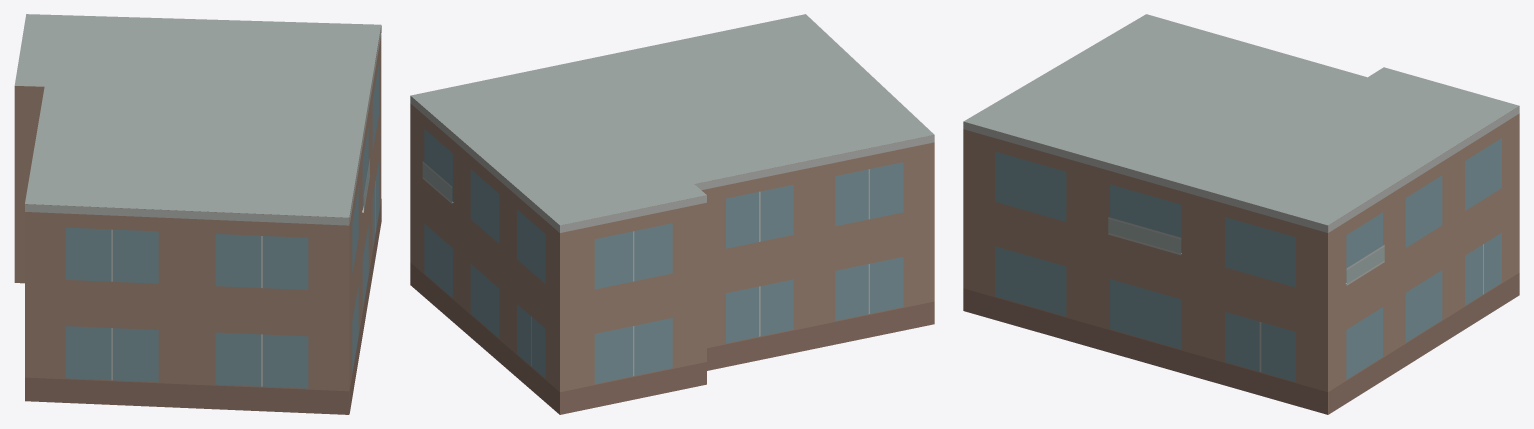
Rendered from survey-upis-32814894.glb.
The picture shows the model from 3 angles, left to right: view 1: azimuth 30°, elevation 25°; view 2: azimuth 150°, elevation 25°; view 3: azimuth 270°, elevation 25°; orthographic projection. The views are drawn at different scales.
Parts seen in each view (by area): view 1: survey-upis-32814894.tmp; view 2: survey-upis-32814894.tmp; view 3: survey-upis-32814894.tmp.
Part boxes in pixels (x1,y1,x2,y2): survey-upis-32814894.tmp: [14, 14, 381, 414]; survey-upis-32814894.tmp: [410, 14, 934, 414]; survey-upis-32814894.tmp: [963, 14, 1519, 414].
Bounding box in the file's own units: 14.62 × 6.1 × 16.25.
